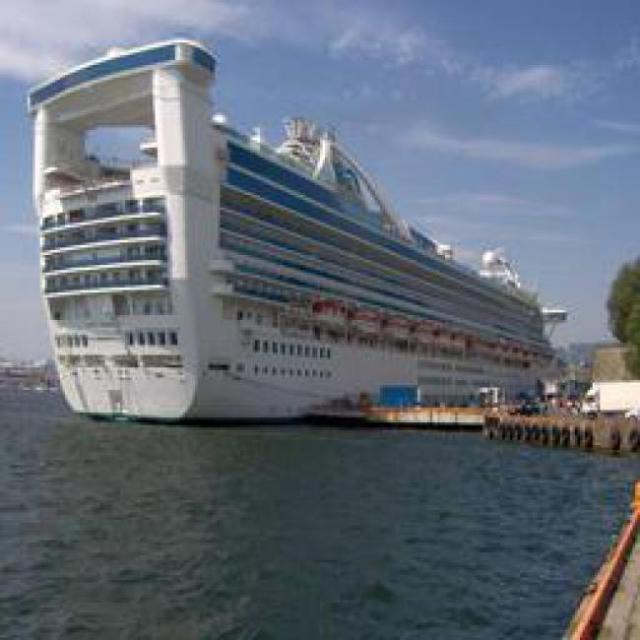boat: (16, 82, 542, 425)
